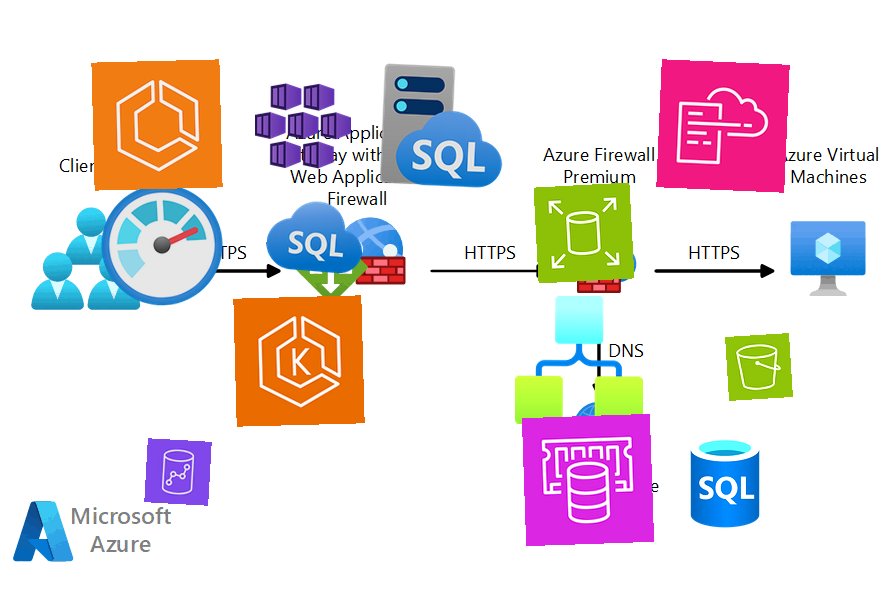aws_amazon_elastic_block_store: (533, 182, 635, 284)
aws_amazon_elastic_container_service: (91, 59, 223, 191)
aws_amazon_elastic_kubernetes_service: (233, 295, 365, 427)
aws_amazon_elasticache: (521, 413, 655, 547)
aws_amazon_redshift: (144, 438, 212, 506)
aws_amazon_simple_storage_service: (725, 333, 793, 401)
aws_cloudformation: (656, 59, 790, 193)
azure_kubernetes_services: (254, 76, 352, 174)
azure_logic_apps: (514, 295, 644, 425)
azure_monitor: (94, 177, 230, 313)
azure_sql: (263, 186, 367, 290)
azure_sql_database: (676, 433, 774, 531)
azure_sql_managed_instance: (376, 59, 510, 193)
